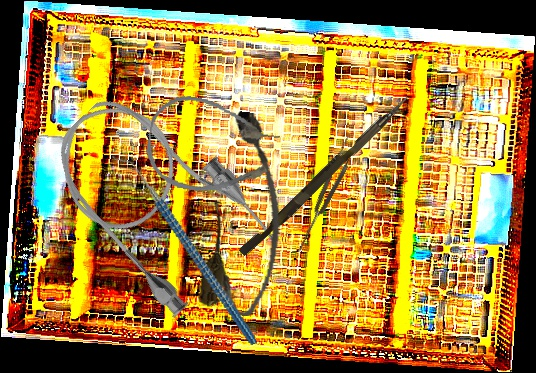Cannula: (30, 68, 287, 328), (196, 108, 296, 320), (140, 90, 285, 204)
Chopper: (112, 131, 257, 368)
Pusher: (238, 89, 411, 261)
Tissue Forceps: (291, 132, 362, 255)
